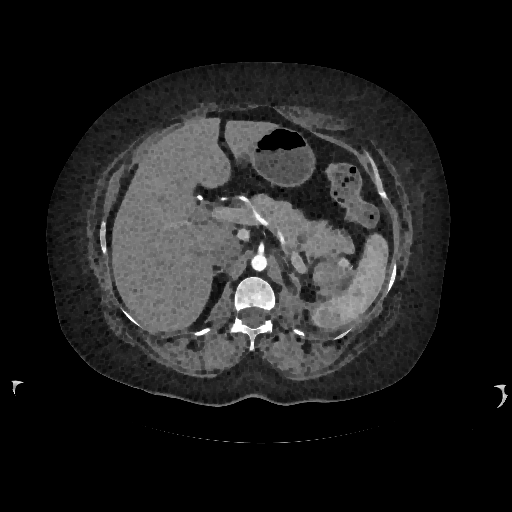Lesion: (336, 254, 353, 272)
